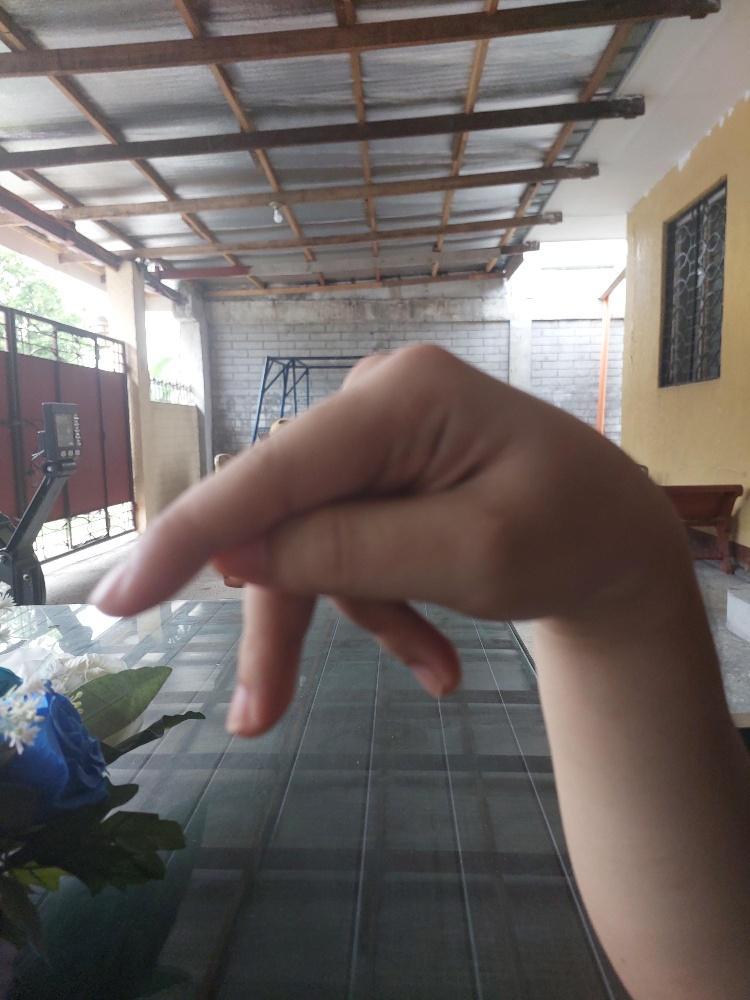p: (83, 338, 631, 743)
